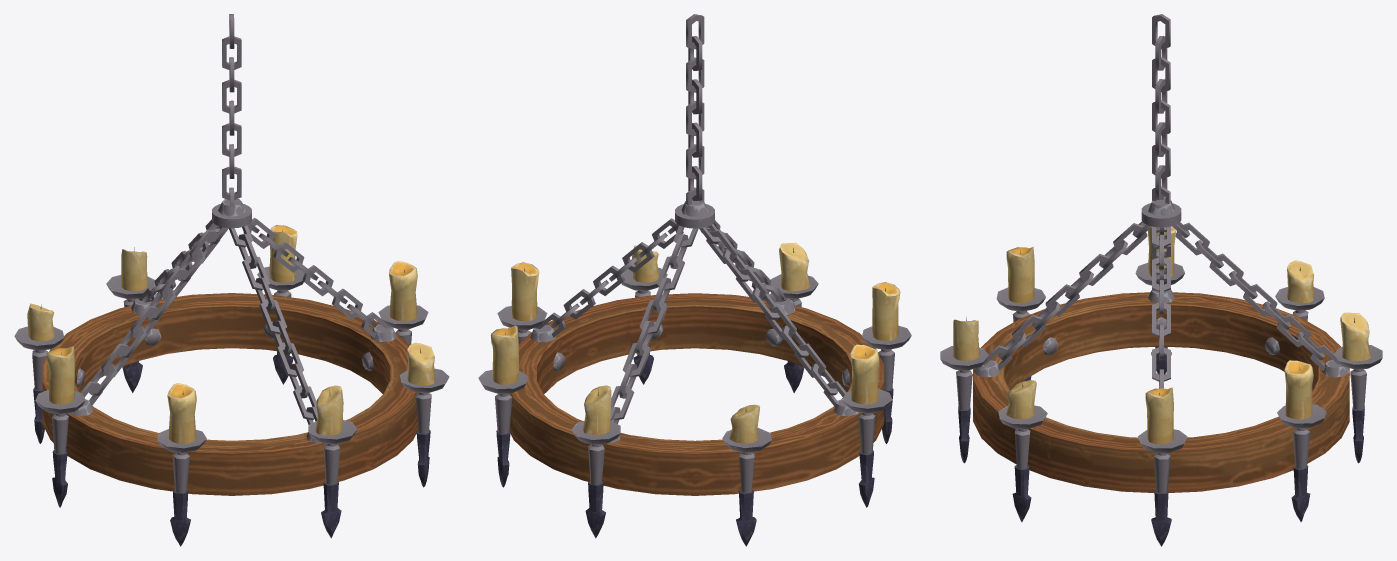
The model's file is Chandelier.gltf.
3 views of the same model, side by side, from view 1: azimuth 30°, elevation 25°; view 2: azimuth 150°, elevation 25°; view 3: azimuth 270°, elevation 25° (orthographic).
Visible parts, largest first — view 1: Chandelier; view 2: Chandelier; view 3: Chandelier.
Part boxes in pixels (x1,y1,x2,y2): Chandelier: (14,14,449,546); Chandelier: (478,14,911,546); Chandelier: (940,14,1382,546).
Bounding box in the file's own units: 1.3 × 1.46 × 1.3.
3 materials, 3 textured.
